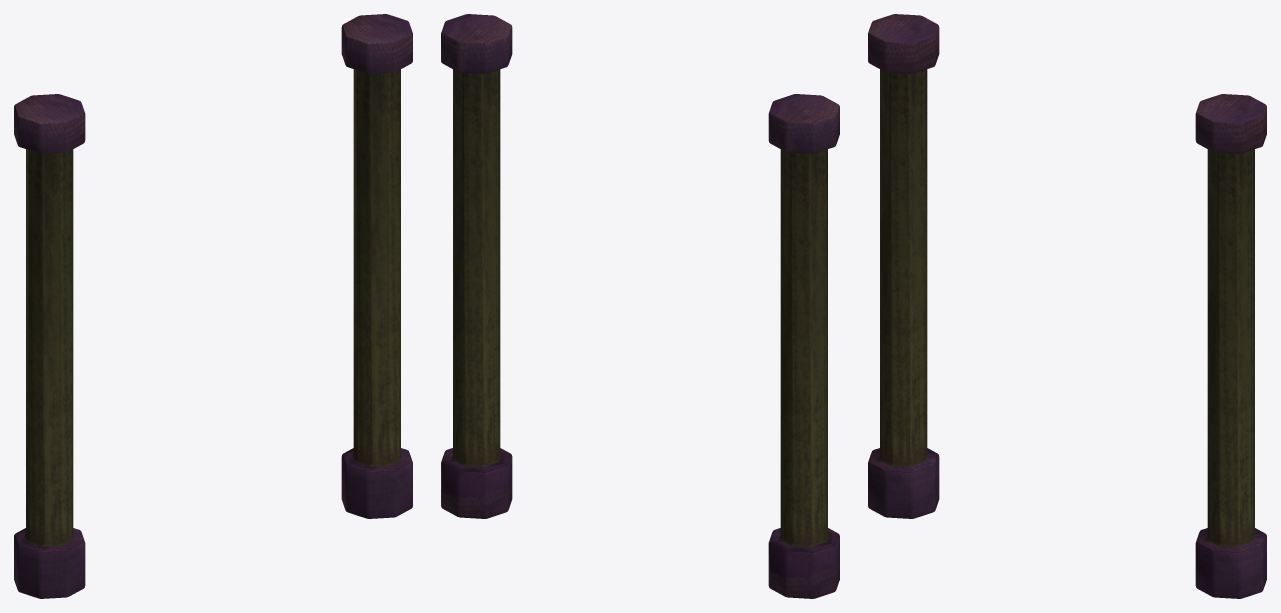
The model's file is MANOR_WINDOW-PILLAR_2.obj.
The picture shows the model from 3 angles, left to right: view 1: azimuth 30°, elevation 25°; view 2: azimuth 150°, elevation 25°; view 3: azimuth 330°, elevation 25°; orthographic projection.
Visible parts, largest first — view 1: MANOR_WINDOW-PILLAR_2.002; view 2: MANOR_WINDOW-PILLAR_2.002; view 3: MANOR_WINDOW-PILLAR_2.002.
Boxes of the visible parts, x1,y1,x2,y2 form: MANOR_WINDOW-PILLAR_2.002: (14, 14, 412, 598); MANOR_WINDOW-PILLAR_2.002: (441, 14, 839, 598); MANOR_WINDOW-PILLAR_2.002: (868, 14, 1266, 598).
Size of the model in its own units: 2.57 by 3 by 0.4135.
